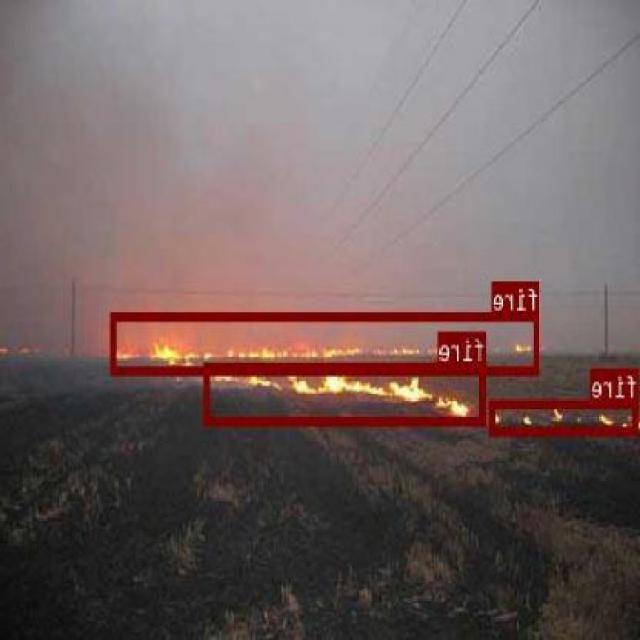Fire: (112, 312, 540, 374)
Smoke: (206, 362, 487, 424), (492, 398, 640, 433)
